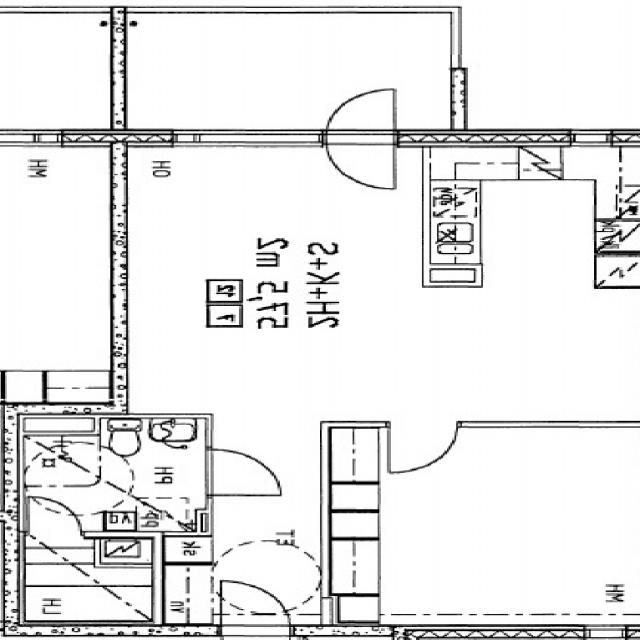door: (327, 84, 395, 146), (327, 130, 395, 192), (221, 578, 290, 636), (389, 421, 457, 473), (206, 449, 282, 495), (28, 496, 81, 536), (221, 625, 290, 640)
